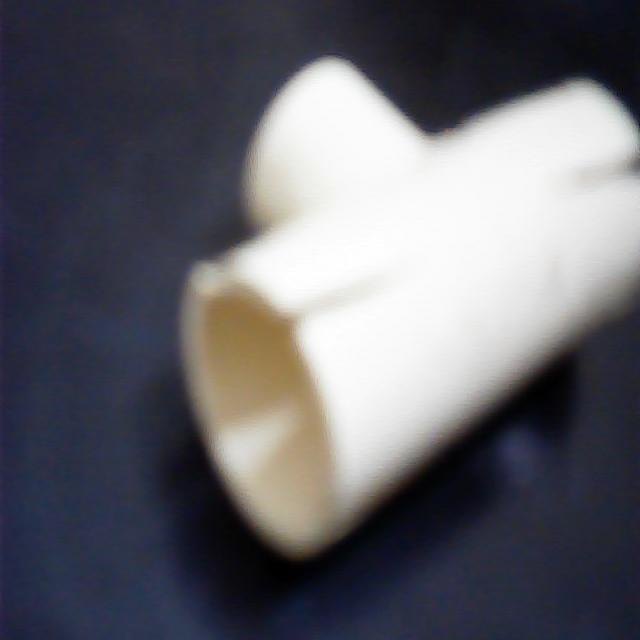Defective: (262, 280, 391, 351), (547, 156, 640, 216)
T Joint: (177, 58, 640, 570)
